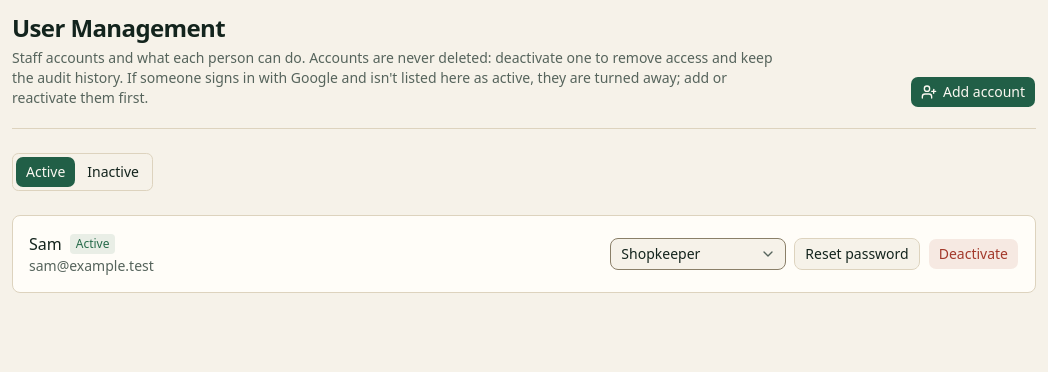
Test case: staff accounts page › changes a role with the canonical role id
Step 1. Select "Food inspector" in the dropdown named "Role for sam@example.test" → (698, 254), box x1=610 y1=238 x2=786 y2=270
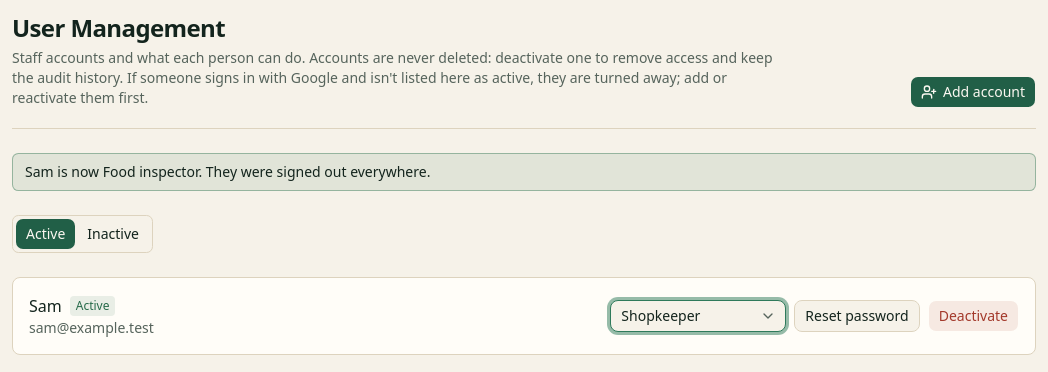
Check: the message shows "Sam is now Food inspector", box x1=25 y1=162 x2=430 y2=181
